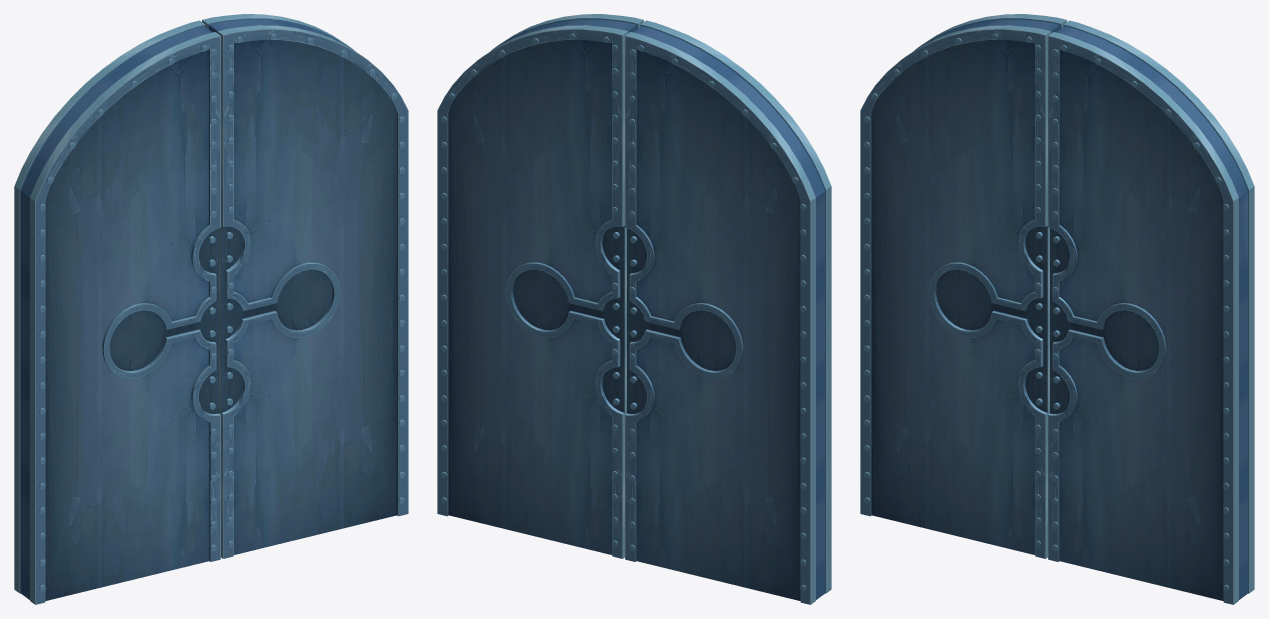
File: 정의문.fbx
3 views of the same model, side by side, from view 1: azimuth 30°, elevation 25°; view 2: azimuth 150°, elevation 25°; view 3: azimuth 330°, elevation 25° (orthographic).
Visible parts, largest first — view 1: 정의문_왼짝, 정의문_오른짝; view 2: 정의문_왼짝, 정의문_오른짝; view 3: 정의문_오른짝, 정의문_왼짝.
Boxes of the visible parts, <box> form: 정의문_왼짝: <box>14,20,220,604</box>; 정의문_오른짝: <box>202,14,408,558</box>; 정의문_왼짝: <box>625,20,831,604</box>; 정의문_오른짝: <box>437,14,643,558</box>; 정의문_오른짝: <box>1048,20,1254,604</box>; 정의문_왼짝: <box>860,14,1066,558</box>.
Bounding box in the file's own units: 2061 × 2765 × 213.
Materials: 1 (1 with a texture image).
